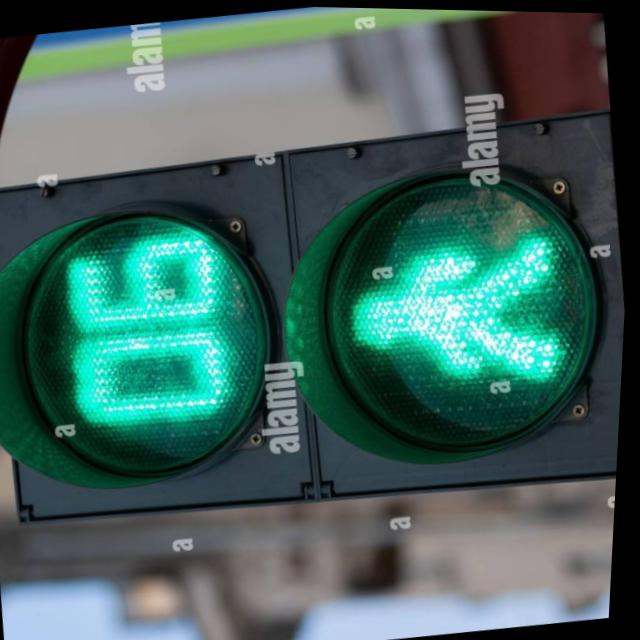green_light: (337, 230, 578, 396)
